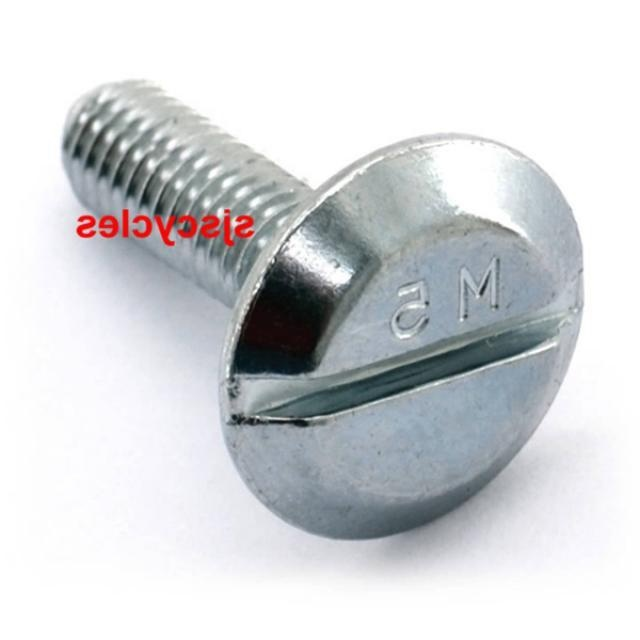duz: (220, 132, 589, 540)
